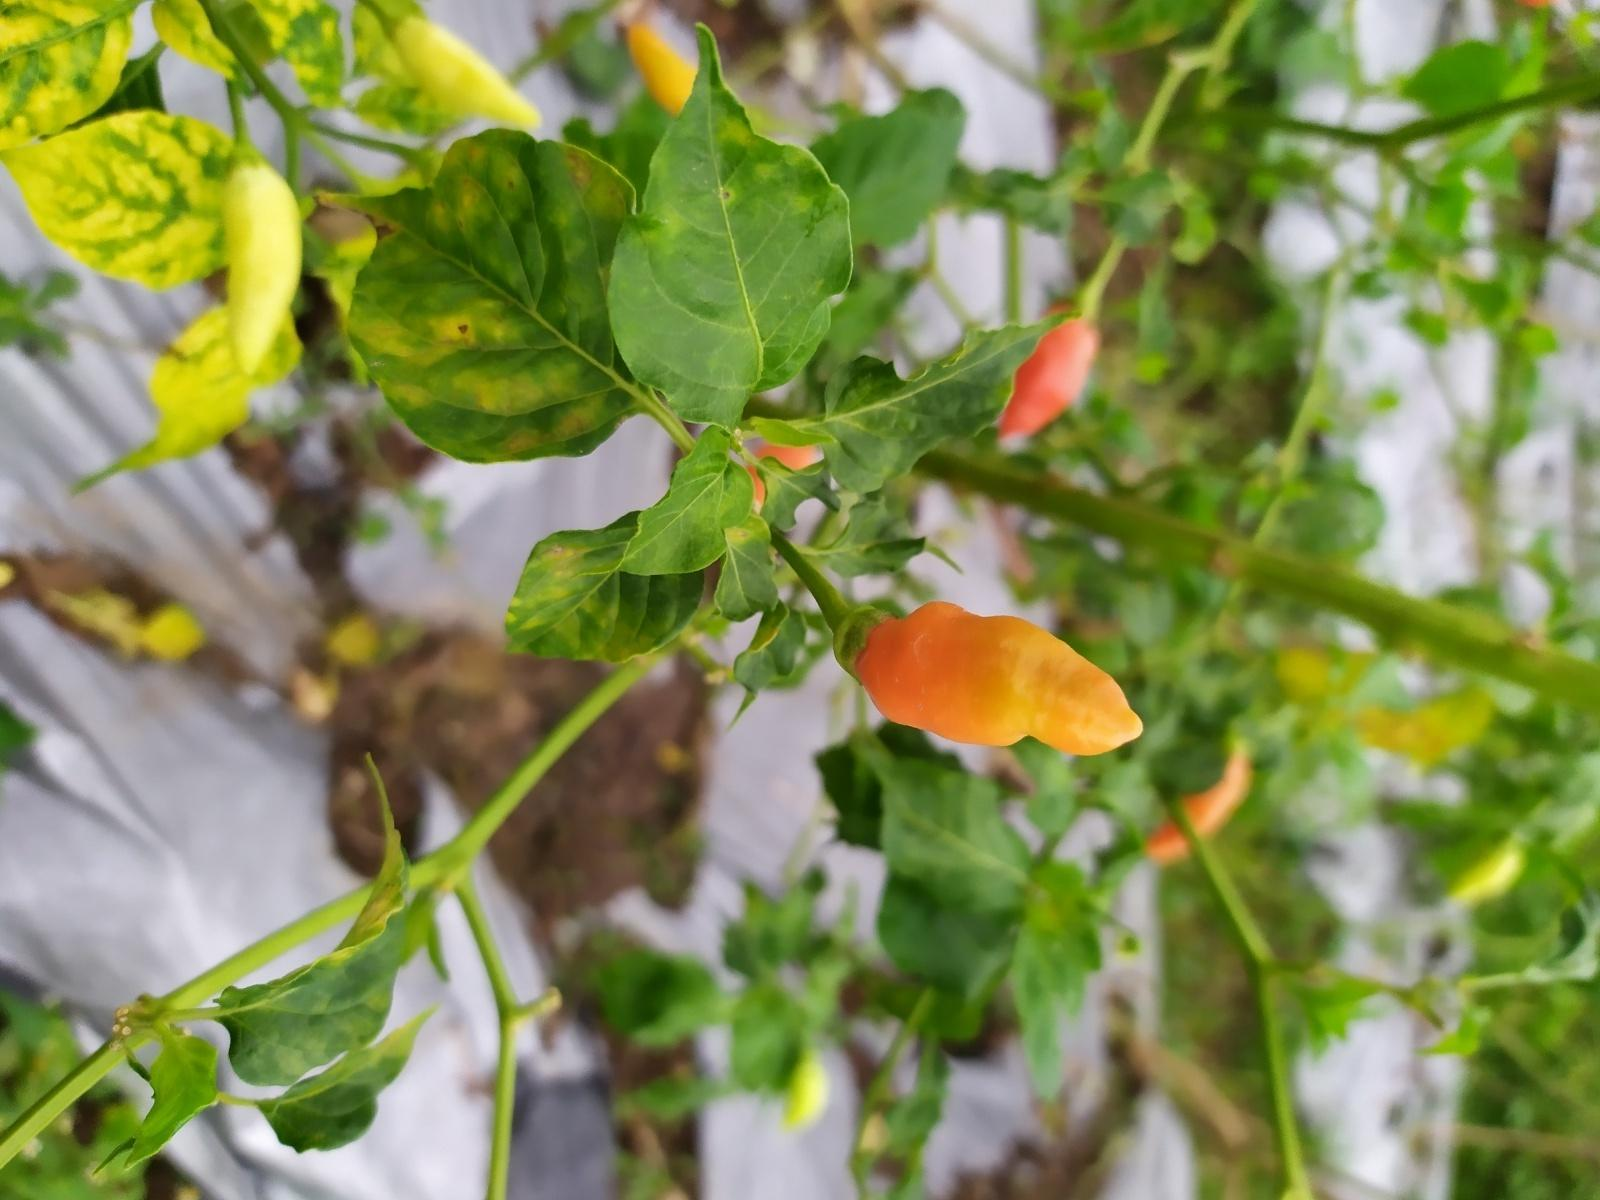cabai_normal: (854, 601, 1145, 756), (386, 11, 542, 134), (222, 156, 304, 377), (995, 301, 1092, 439)
